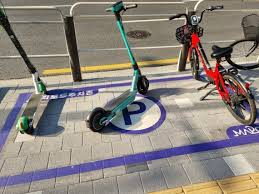kick_board: (86, 1, 149, 132)
kick_handler: (106, 1, 137, 11)
kick_neck: (117, 22, 140, 71)
kick_wheel: (87, 108, 107, 131), (138, 76, 150, 94), (17, 119, 32, 132), (37, 82, 46, 92)
